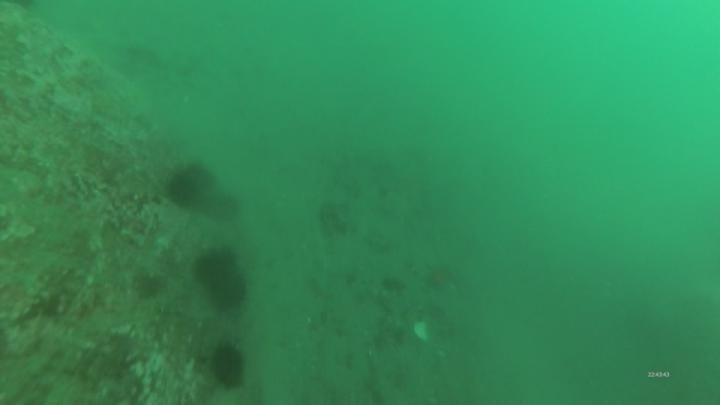echinus: (163, 160, 217, 210), (192, 239, 243, 291), (207, 340, 250, 392), (205, 267, 250, 312), (204, 189, 243, 224)
starfish: (420, 260, 459, 295)
